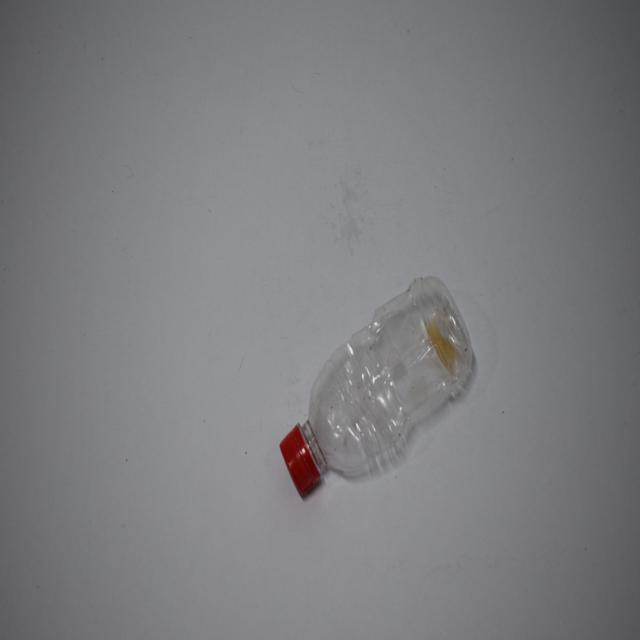empty: (280, 277, 473, 496)
